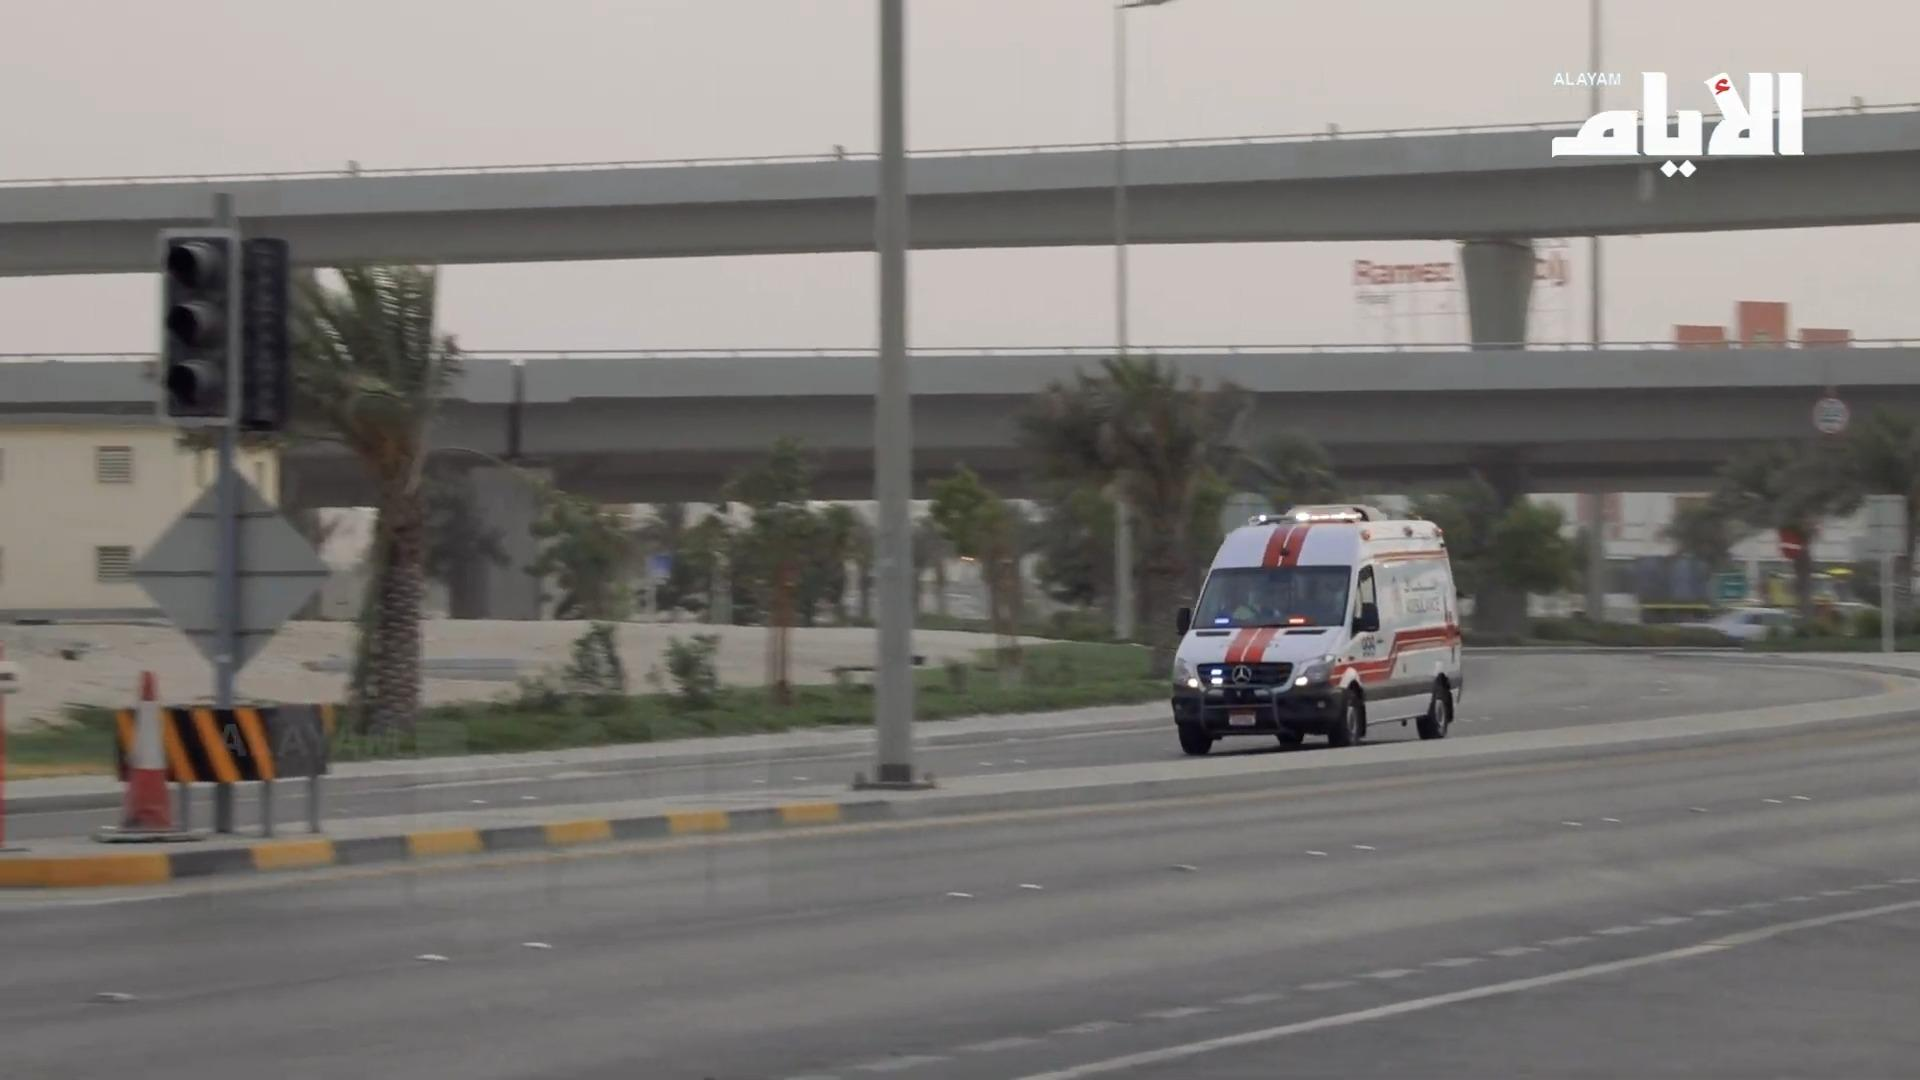ambulance_on: (1171, 507, 1462, 757)
